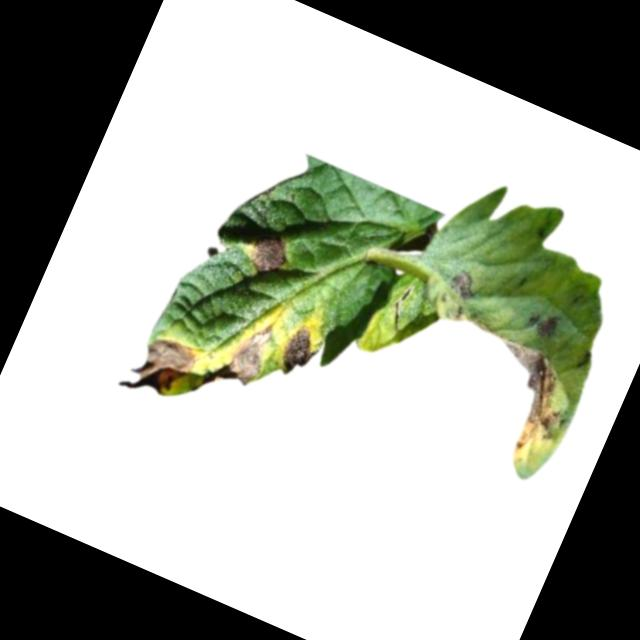Early_blight: (461, 334, 587, 471), (117, 328, 201, 413), (203, 310, 278, 404), (274, 321, 322, 383), (246, 231, 291, 278), (524, 306, 563, 342), (448, 269, 477, 301)
